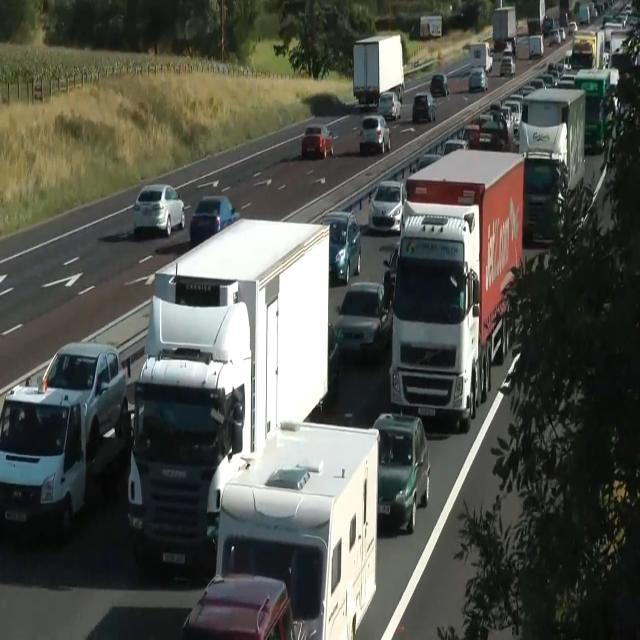bus: (181, 572, 295, 639), (372, 412, 430, 534), (332, 281, 392, 362), (319, 210, 361, 284), (133, 183, 185, 237), (190, 195, 240, 246), (368, 180, 406, 233), (462, 111, 508, 150), (359, 114, 391, 154), (382, 241, 400, 303), (301, 125, 333, 159), (327, 322, 341, 397), (499, 351, 522, 394), (501, 97, 523, 131), (412, 92, 436, 122), (377, 91, 401, 120), (411, 153, 441, 173), (438, 138, 468, 156), (468, 66, 488, 92), (430, 73, 450, 96), (499, 54, 515, 76), (548, 27, 566, 46), (568, 20, 578, 33)
car: (202, 419, 380, 638), (126, 294, 252, 574), (0, 339, 130, 541)
jeep: (38, 341, 130, 454)
minibus: (127, 216, 330, 574), (389, 148, 525, 432), (518, 86, 586, 247), (574, 67, 620, 153), (352, 32, 404, 108), (492, 5, 518, 55), (469, 42, 493, 73), (420, 15, 442, 38), (528, 34, 544, 58)
